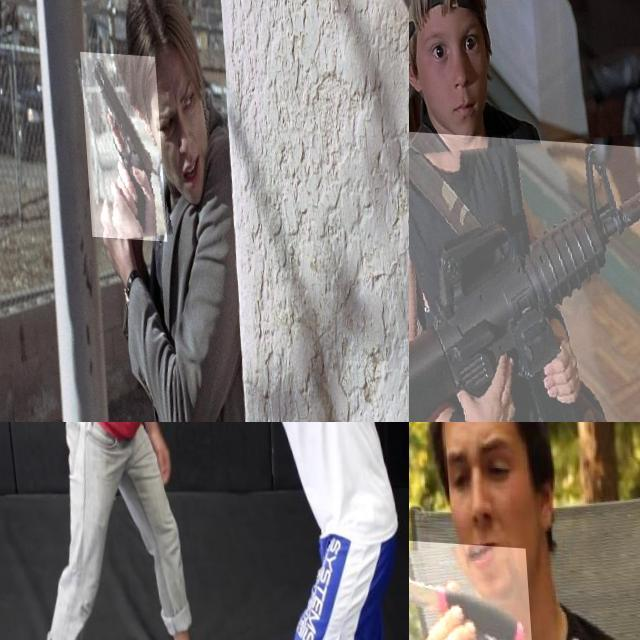-: (409, 532, 530, 640), (95, 422, 185, 476)
gun-knife-thesis - v11 Yolov5 augmented: (409, 123, 640, 422), (78, 49, 162, 238)
